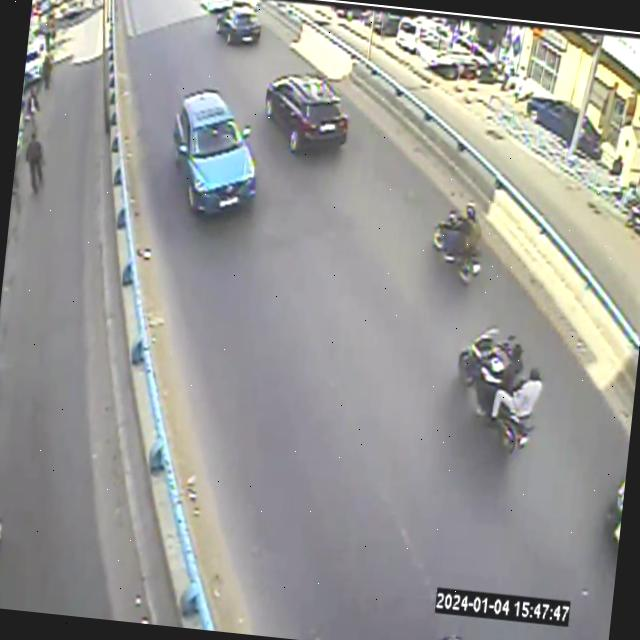car: (525, 97, 577, 144), (525, 96, 577, 143), (526, 97, 577, 143), (577, 117, 601, 159)
